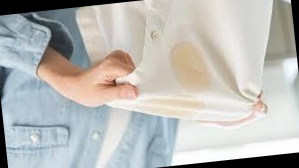coffee: (167, 42, 213, 96)
